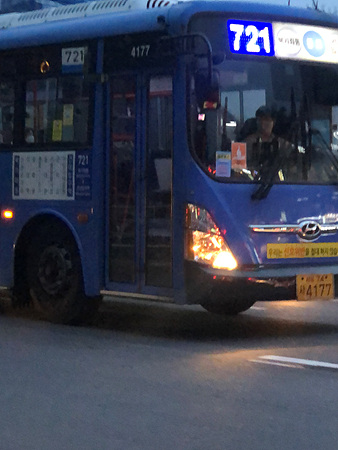bnum: (228, 20, 274, 56)
